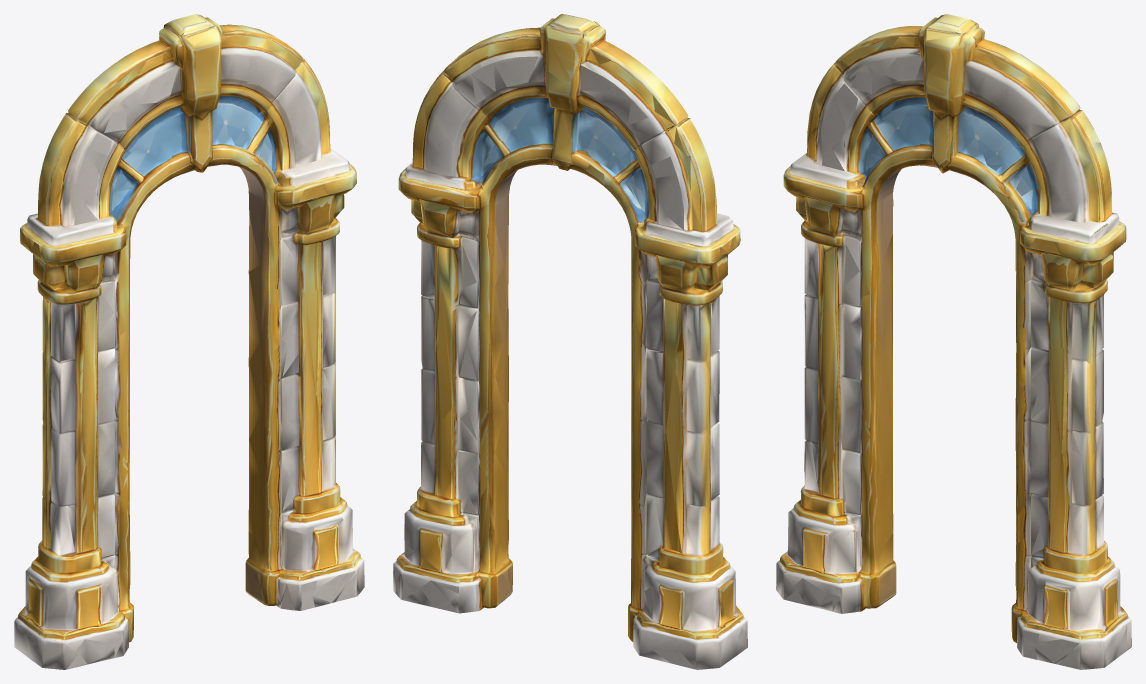
The model's file is HaloPart_TowerDoorFrame_HD_LOD.glb.
The picture shows the model from 3 angles, left to right: view 1: azimuth 30°, elevation 25°; view 2: azimuth 150°, elevation 25°; view 3: azimuth 330°, elevation 25°; orthographic projection.
Visible parts, largest first — view 1: tripo_node_8b2b0422-b008-4f8e-beba-523c5b8ad40c; view 2: tripo_node_8b2b0422-b008-4f8e-beba-523c5b8ad40c; view 3: tripo_node_8b2b0422-b008-4f8e-beba-523c5b8ad40c.
Boxes of the visible parts, x1,y1,x2,y2 form: tripo_node_8b2b0422-b008-4f8e-beba-523c5b8ad40c: [14, 14, 364, 669]; tripo_node_8b2b0422-b008-4f8e-beba-523c5b8ad40c: [393, 14, 747, 669]; tripo_node_8b2b0422-b008-4f8e-beba-523c5b8ad40c: [776, 14, 1131, 669].
Size of the model in its own units: 0.5572 by 0.9782 by 0.1369.
1 material, 1 textured.
